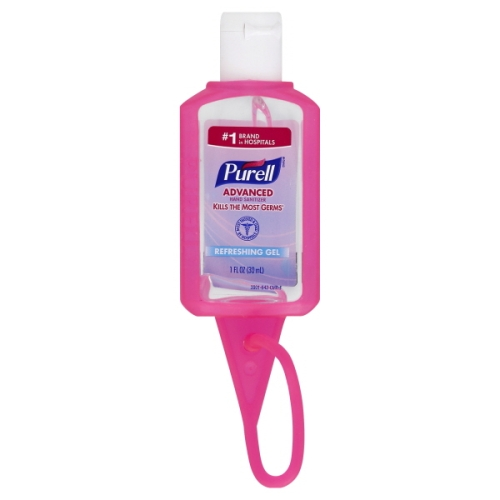Sanitizer: (174, 9, 327, 318)
